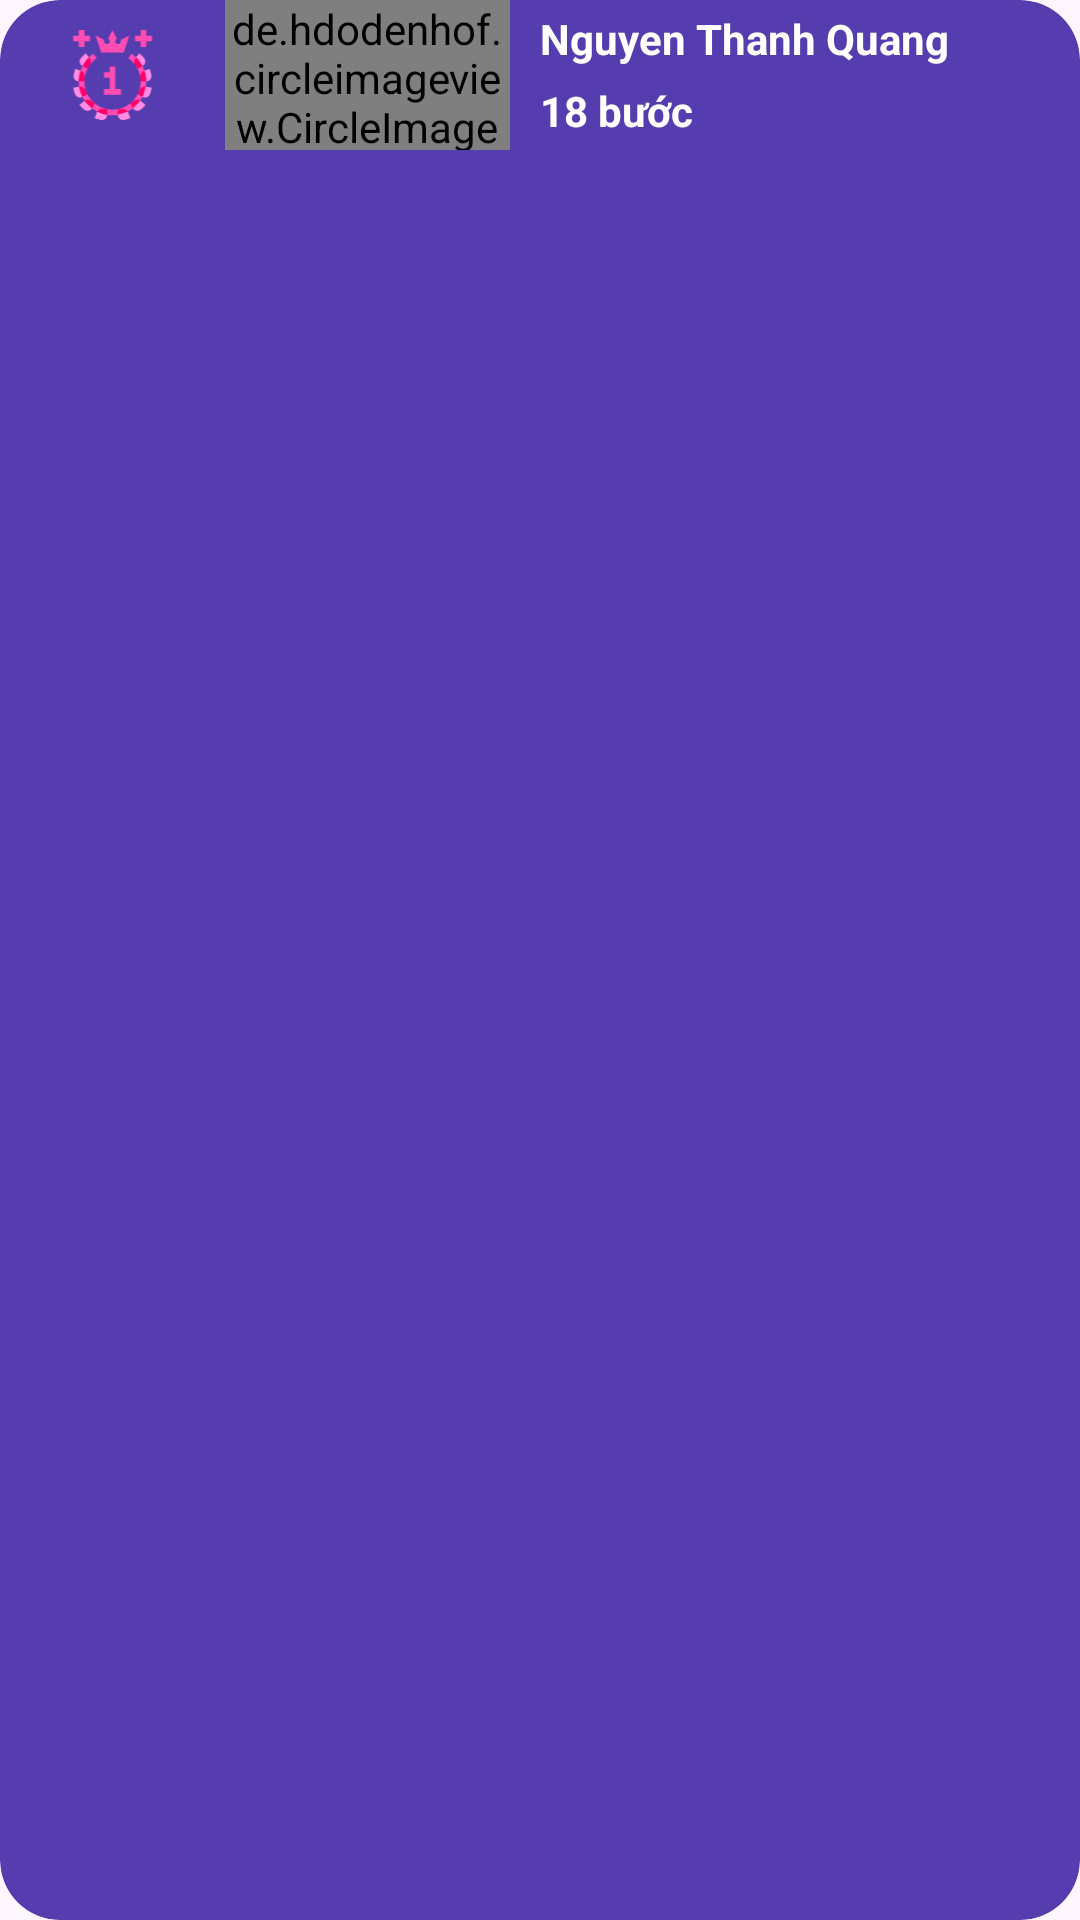

Where icons sit on this 1080px x 1920px app screen, as box=[x1, y1, x2, y2]:
ranking: box=[73, 30, 153, 120]
